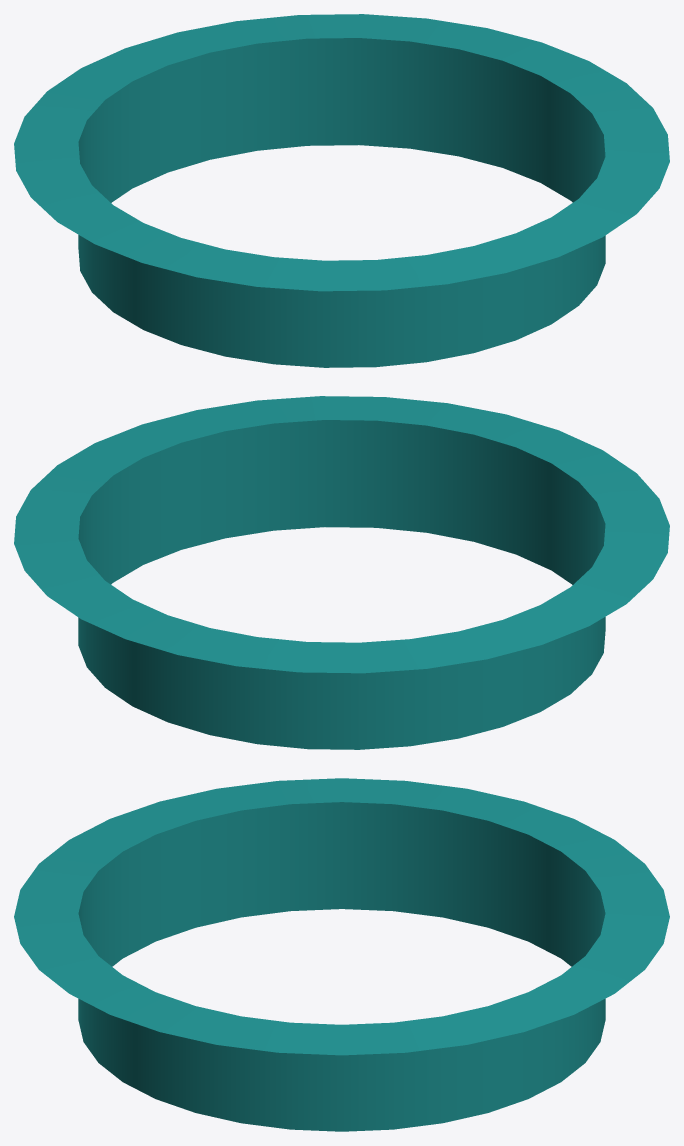
File: original-27.obj
3 views of the same model, one above another, from view 1: azimuth 30°, elevation 25°; view 2: azimuth 150°, elevation 25°; view 3: azimuth 270°, elevation 25° (orthographic).
Visible parts, largest first — view 1: mesh24/mesh24-geometry#mesh24-geometry; view 2: mesh24/mesh24-geometry#mesh24-geometry; view 3: mesh24/mesh24-geometry#mesh24-geometry.
Boxes of the visible parts, left/top/right/bottom form: mesh24/mesh24-geometry#mesh24-geometry: left=14, top=14, right=669, bottom=367; mesh24/mesh24-geometry#mesh24-geometry: left=14, top=396, right=669, bottom=749; mesh24/mesh24-geometry#mesh24-geometry: left=14, top=778, right=669, bottom=1131.
Size of the model in its own units: 0.1418 by 0.0255 by 0.1418.
